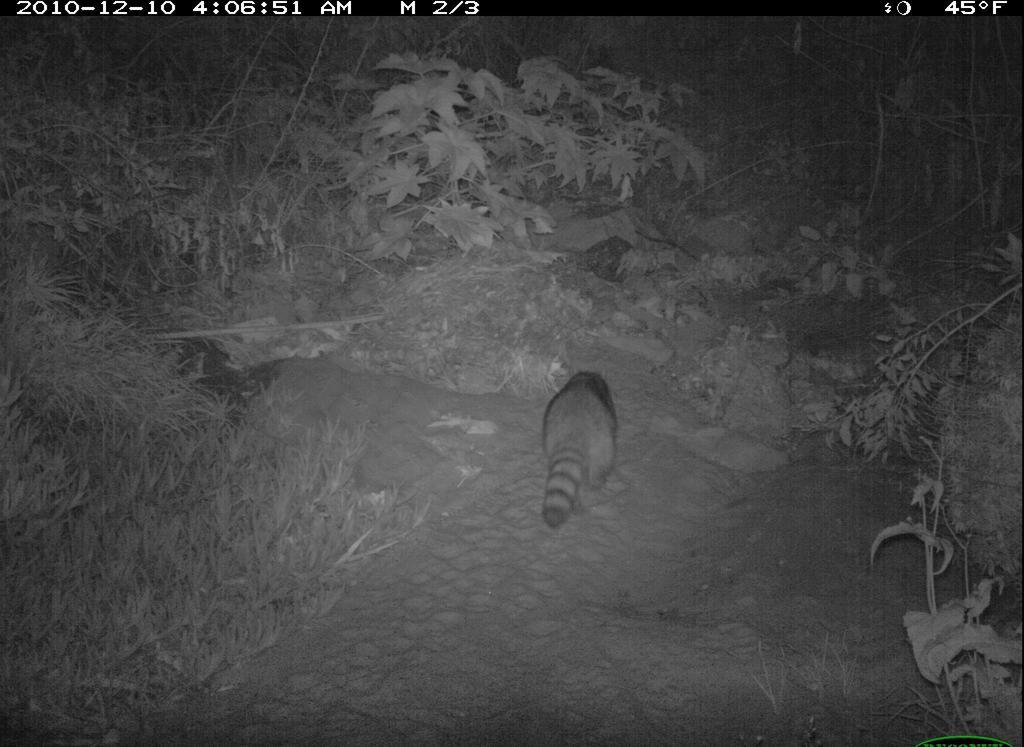raccoon: (538, 368, 625, 541)
